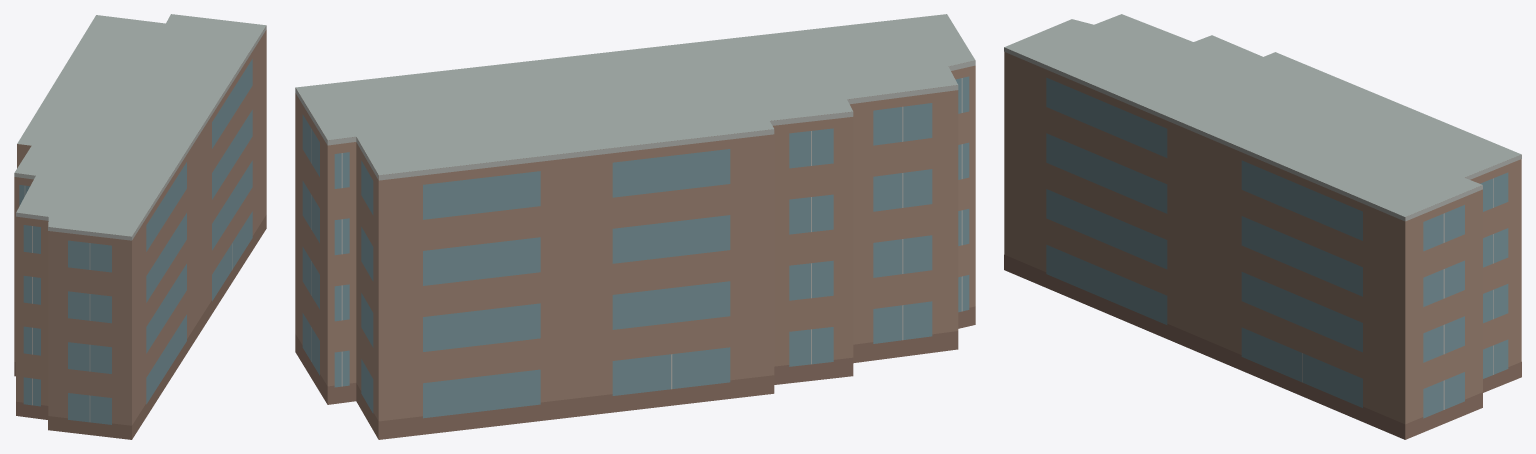
File: survey-upis-32908166.glb
3 views of the same model, side by side, from view 1: azimuth 30°, elevation 25°; view 2: azimuth 150°, elevation 25°; view 3: azimuth 270°, elevation 25° (orthographic). The views are drawn at different scales.
Parts seen in each view (by area): view 1: survey-upis-32908166.tmp; view 2: survey-upis-32908166.tmp; view 3: survey-upis-32908166.tmp.
Part boxes in pixels (left/top/right/bottom): survey-upis-32908166.tmp: left=14, top=14, right=266, bottom=439; survey-upis-32908166.tmp: left=295, top=14, right=975, bottom=439; survey-upis-32908166.tmp: left=1004, top=14, right=1521, bottom=439.
Size of the model in its own units: 24.06 by 12.3 by 25.91.
